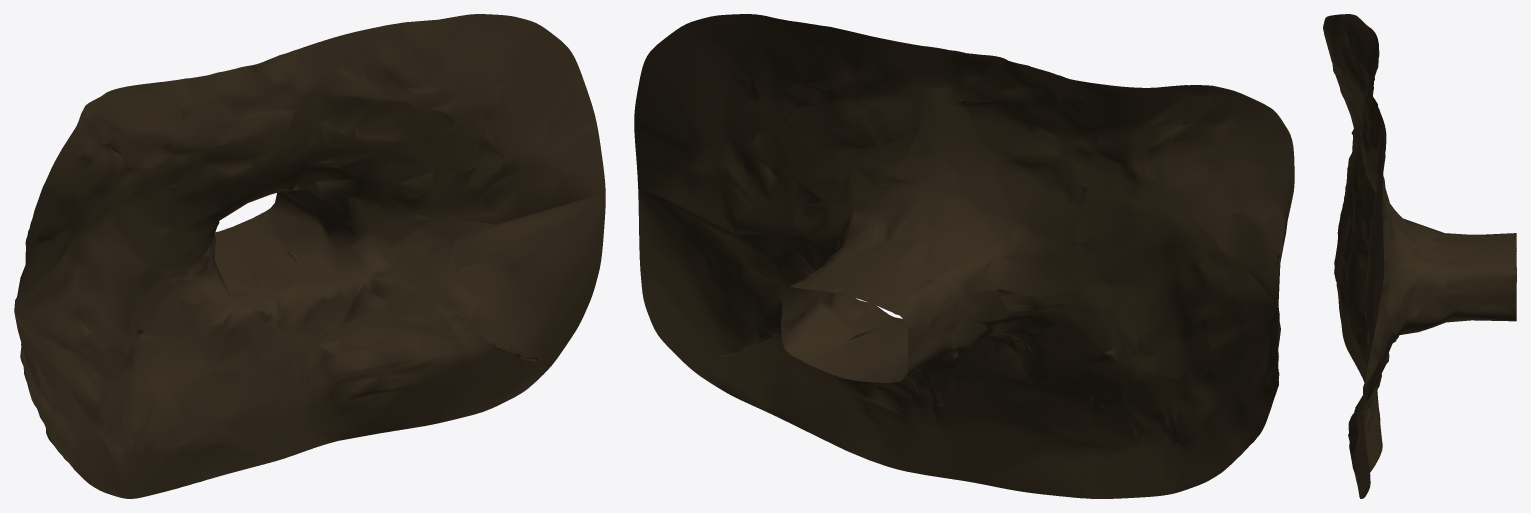
Rendered from caveLowPolyUVfix.fbx.
3 renders of one model, left to right at view 1: azimuth 30°, elevation 25°; view 2: azimuth 150°, elevation 25°; view 3: azimuth 270°, elevation 25°, orthographic. The views are drawn at different scales.
Visible parts, largest first — view 1: CliffFace_LOD3; view 2: CliffFace_LOD3; view 3: CliffFace_LOD3.
Part boxes in pixels (bbox=[...]): CliffFace_LOD3: bbox=[14, 14, 605, 498]; CliffFace_LOD3: bbox=[634, 14, 1294, 498]; CliffFace_LOD3: bbox=[1323, 14, 1516, 498].
Size of the model in its own units: 176 by 117 by 62.55.
